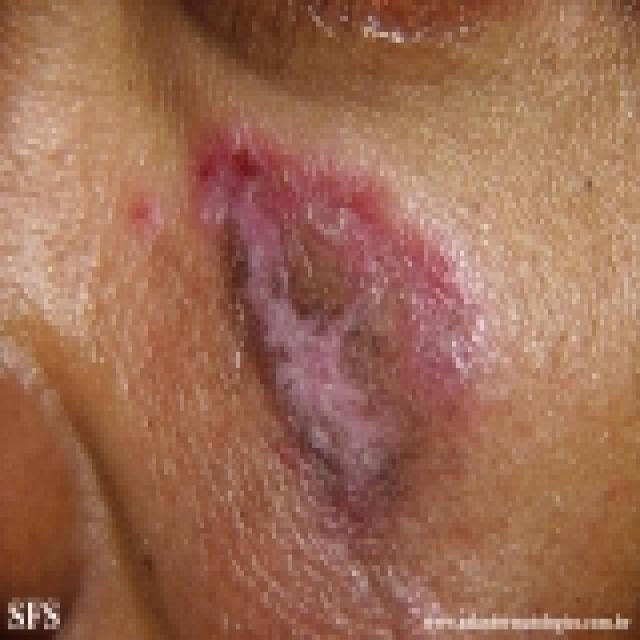lupus: (172, 106, 487, 552)
